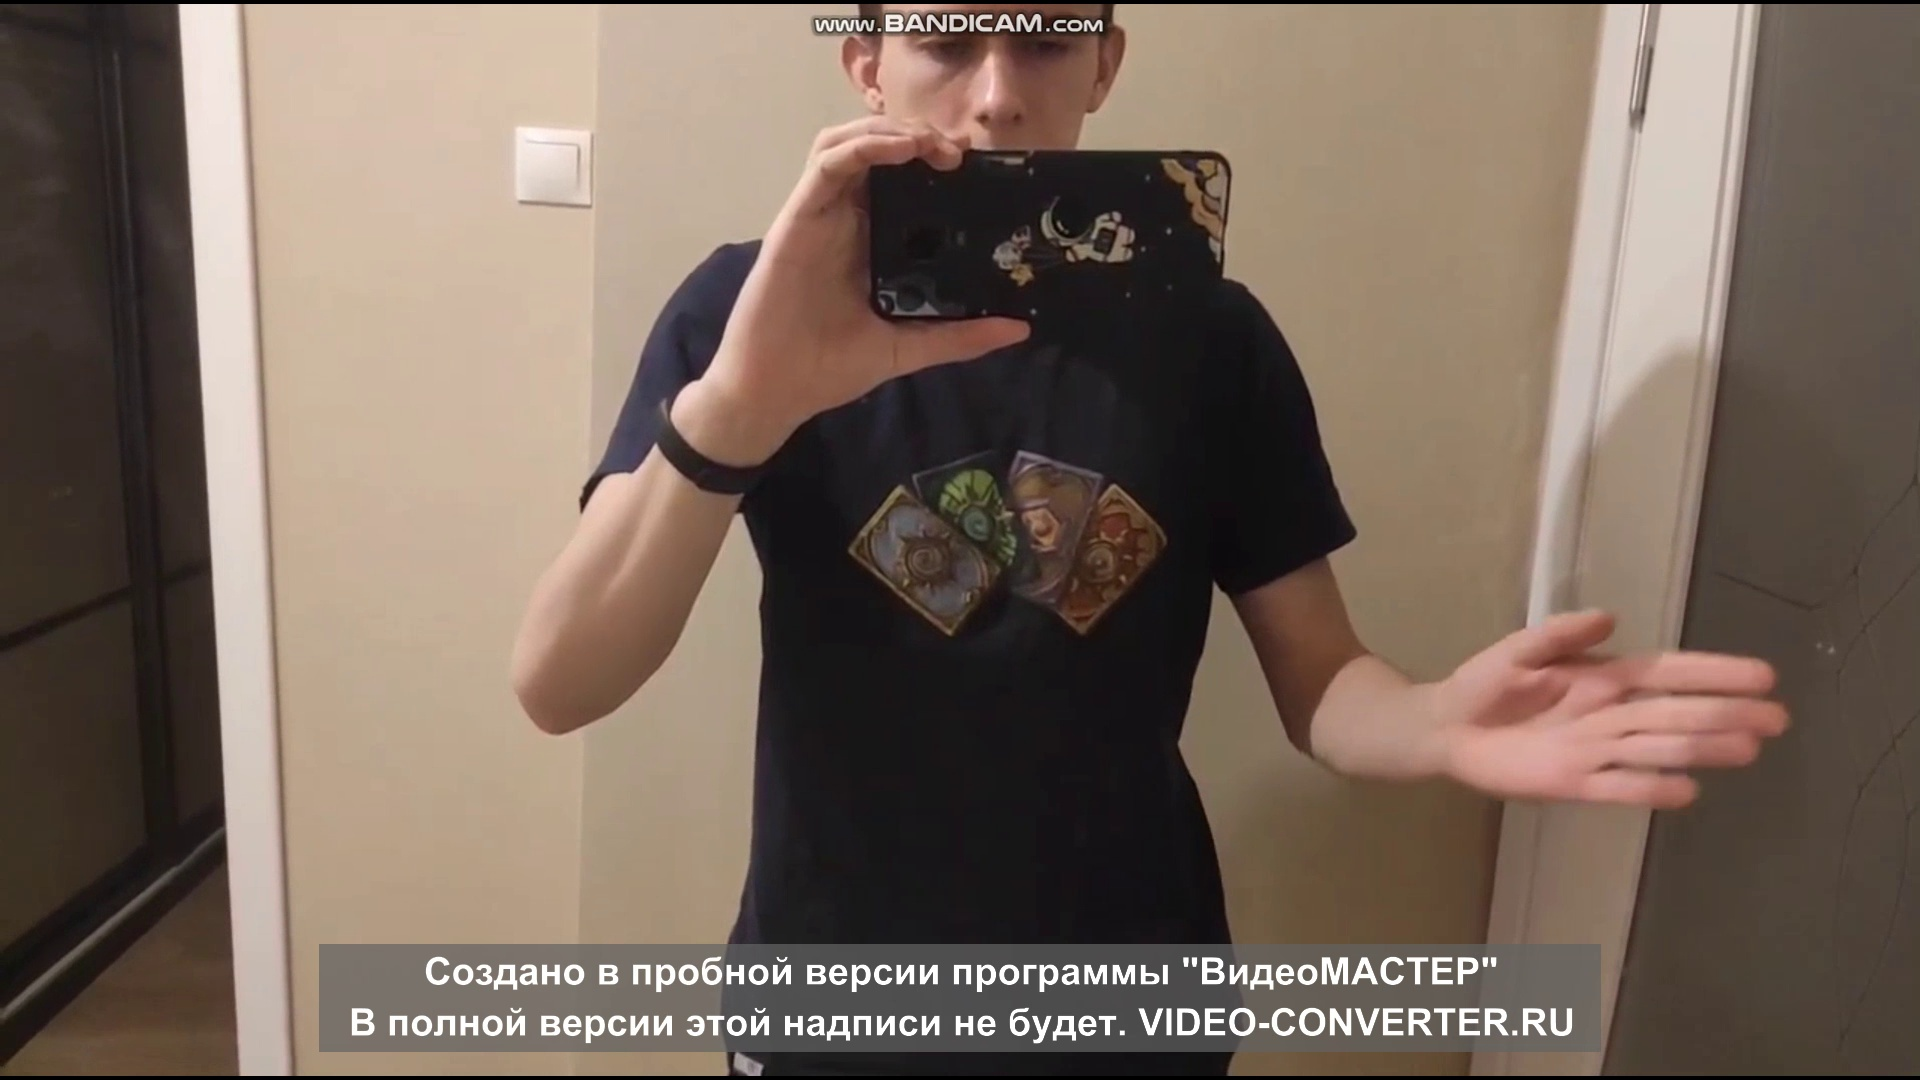Ладонь: (1455, 605, 1791, 807)
